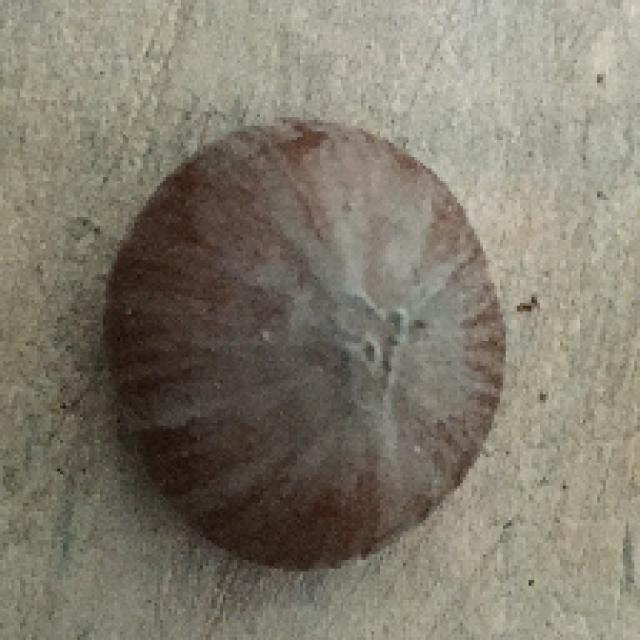qualityHazelnut: (100, 114, 508, 572)
